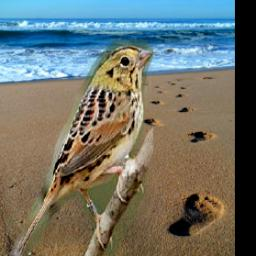Sparrow: (8, 40, 153, 256)
